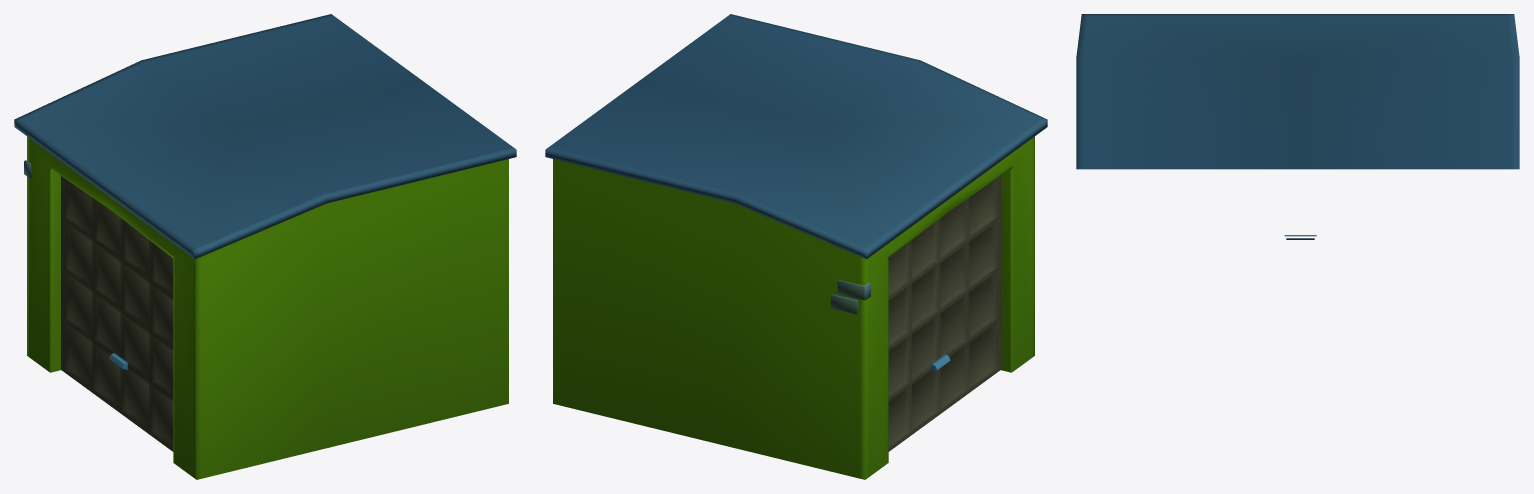
Rendered from Garage01Night.glb.
3 views of the same model, side by side, from view 1: azimuth 30°, elevation 25°; view 2: azimuth 150°, elevation 25°; view 3: azimuth 270°, elevation 25° (orthographic). The views are drawn at different scales.
Visible parts, largest first — view 1: Garage01Night; view 2: Garage01Night; view 3: Garage01Night.
Part boxes in pixels (x1,y1,x2,y2): Garage01Night: (14, 14, 516, 479); Garage01Night: (545, 14, 1047, 479); Garage01Night: (1076, 14, 1519, 239).
Size of the model in its own units: 7.65 by 5.94 by 7.69.
Materials: 2 (1 with a texture image).
